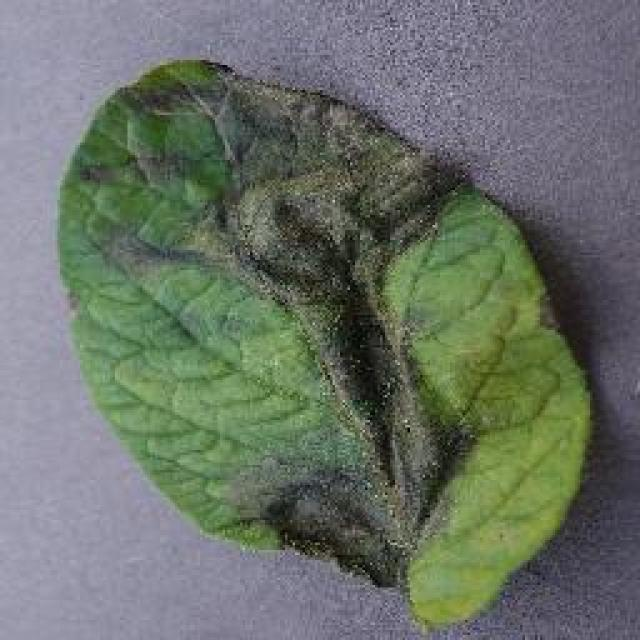late_blight: (52, 52, 598, 632)
